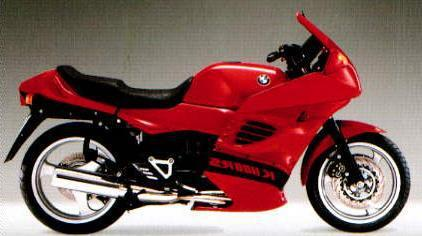motorcycle: (1, 6, 416, 236)
